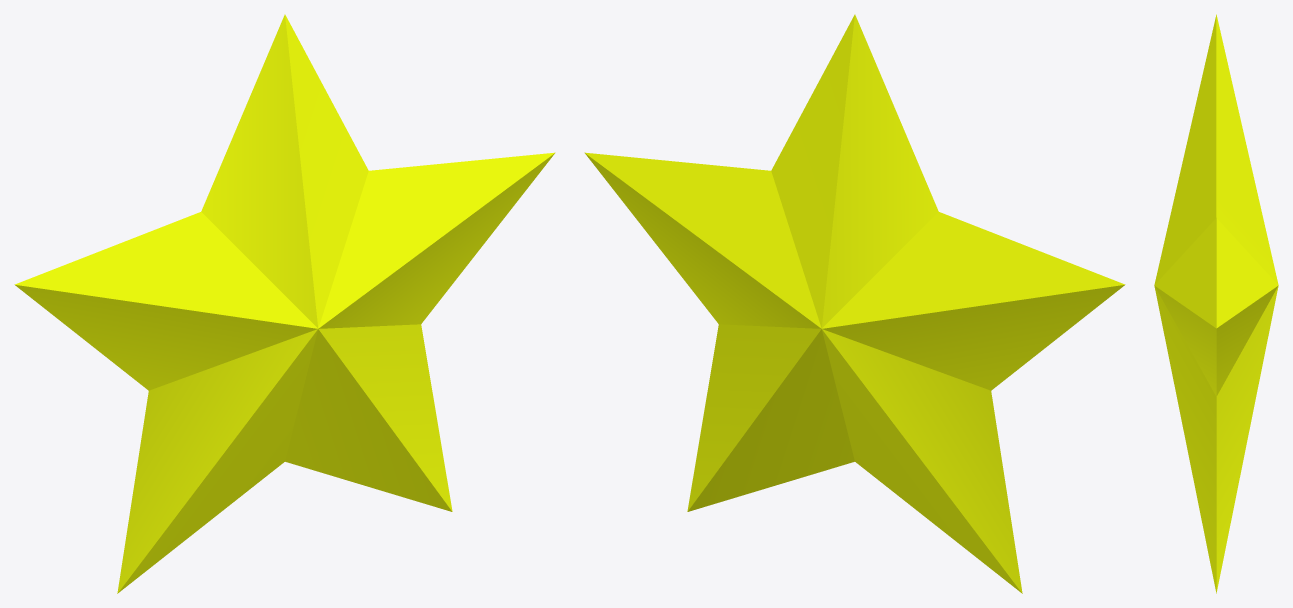
The model's file is uvmd-0249.glb.
3 views of the same model, side by side, from view 1: azimuth 30°, elevation 25°; view 2: azimuth 150°, elevation 25°; view 3: azimuth 270°, elevation 25° (orthographic). The views are drawn at different scales.
Parts seen in each view (by area): view 1: uvmd-0249; view 2: uvmd-0249; view 3: uvmd-0249.
Boxes of the visible parts, x1=… form: uvmd-0249: x1=14, y1=14, x2=555, y2=593; uvmd-0249: x1=584, y1=14, x2=1125, y2=593; uvmd-0249: x1=1154, y1=14, x2=1278, y2=593.
Bounding box in the file's own units: 310 × 295 × 66.
1 material, 1 textured.
